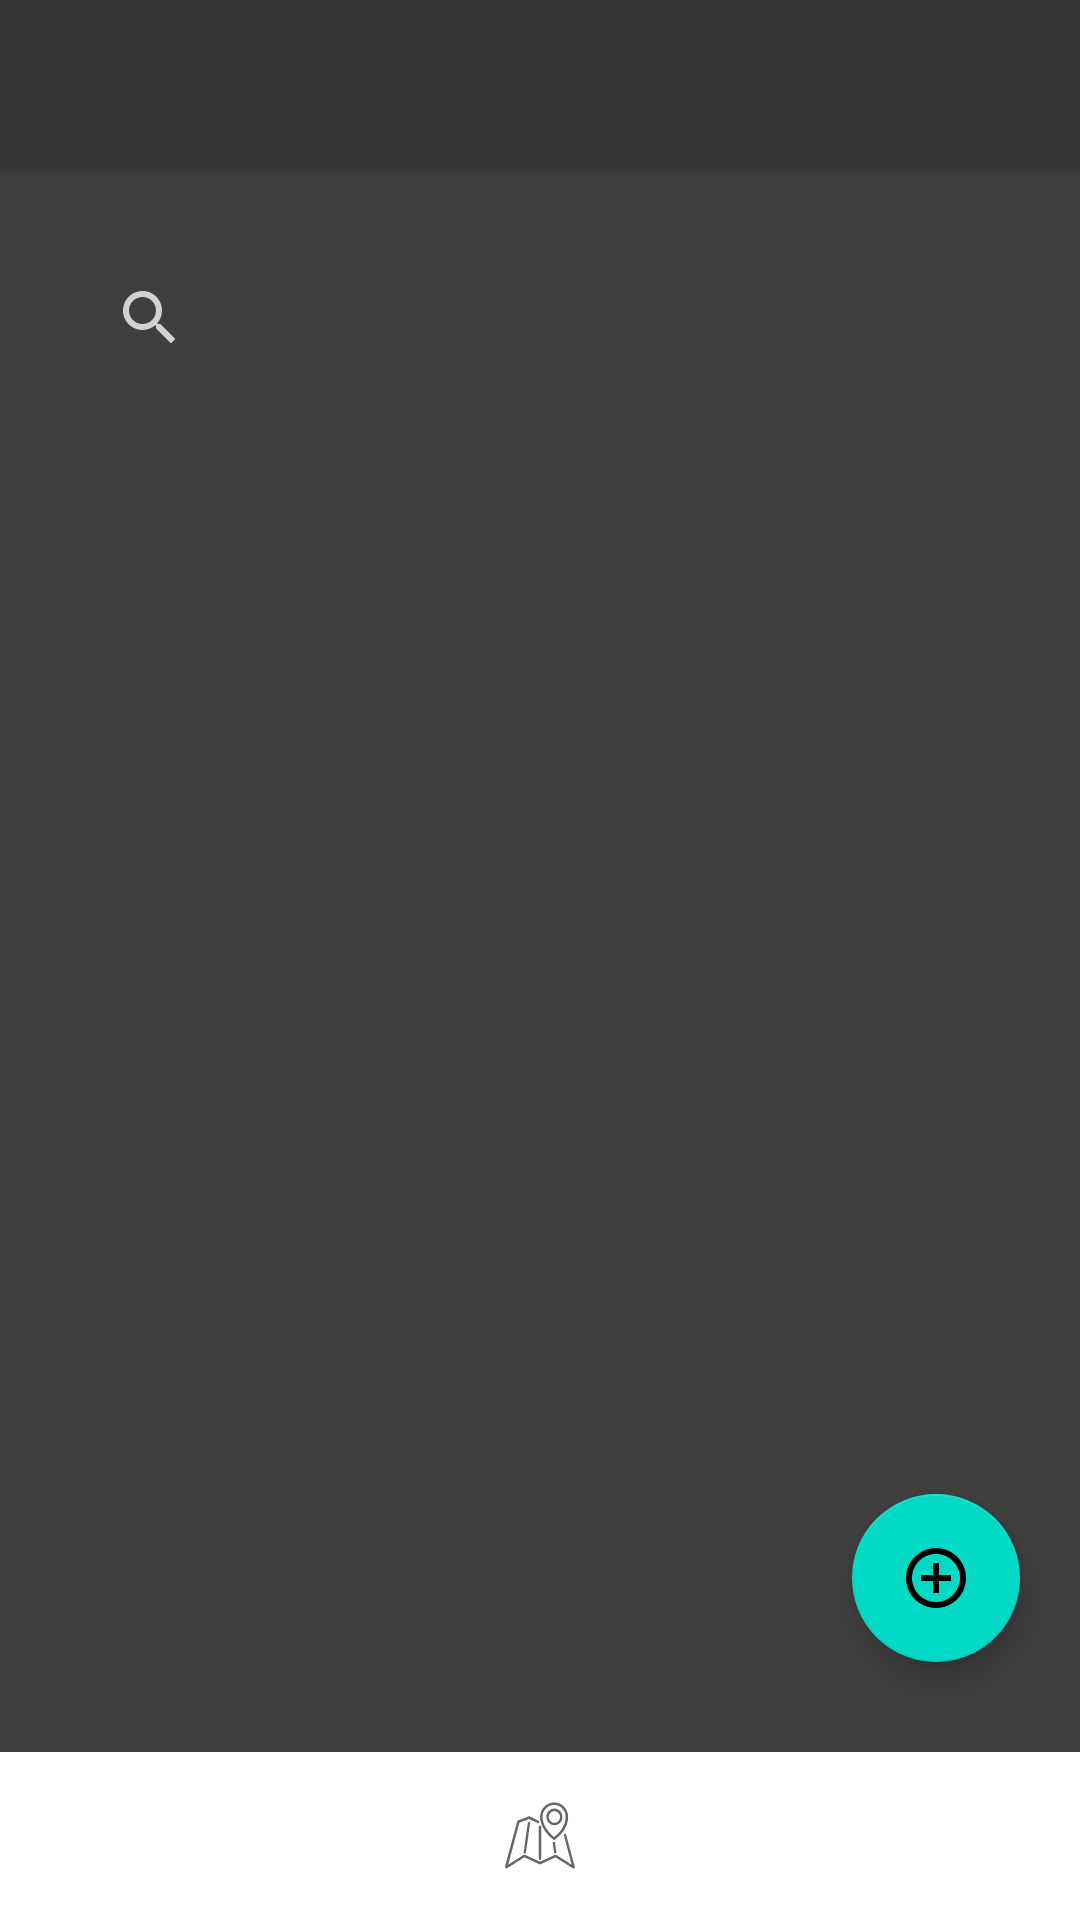

Where to tap for icons on this 1080 × 1920 app screen, as point (x, y):
plus: point (936, 1578)
